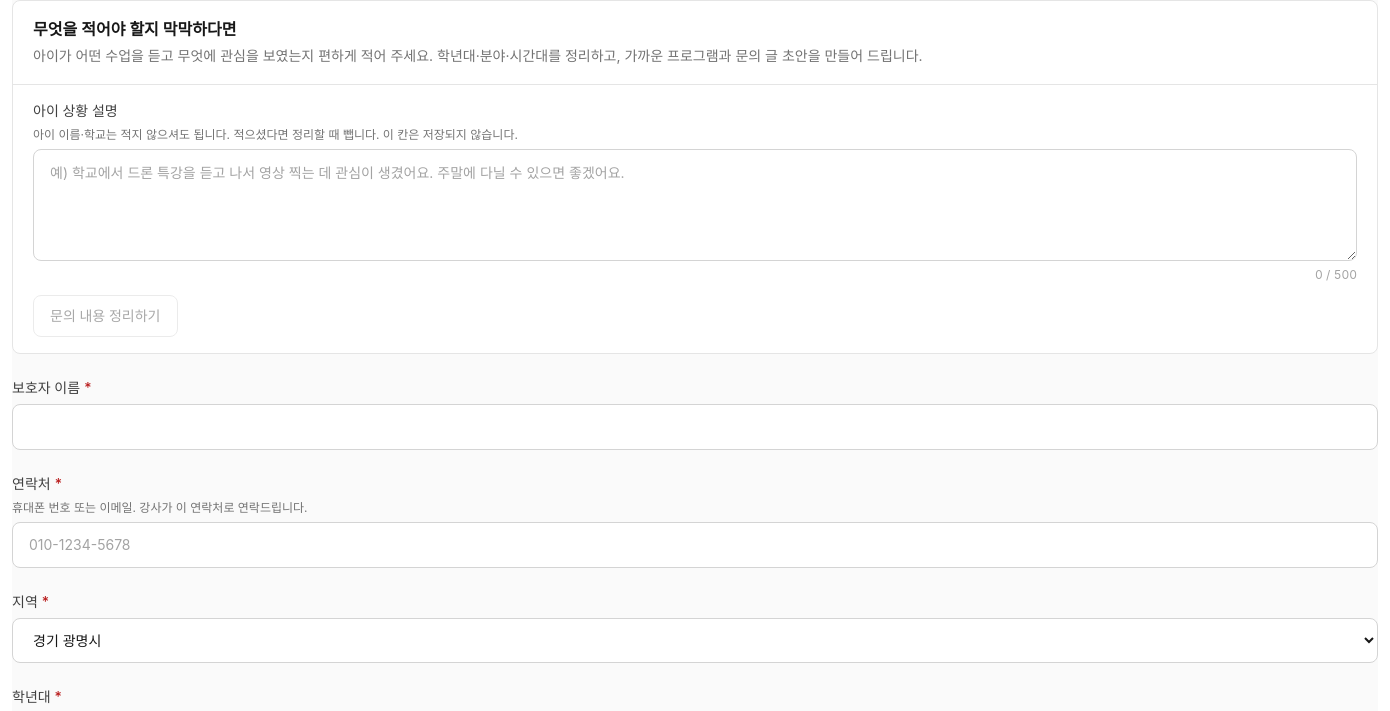
Test case: 보호자 문의 도우미 › 정리한 조건·조건에 맞는 프로그램·초안·고지를 보여 준다
Type "중학생 아들이 드론 특강 듣고 영상 찍는 데 푹 빠졌어요" into the text box labelled "아이 상황 설명" at [695, 205], box [33, 149, 1357, 261]
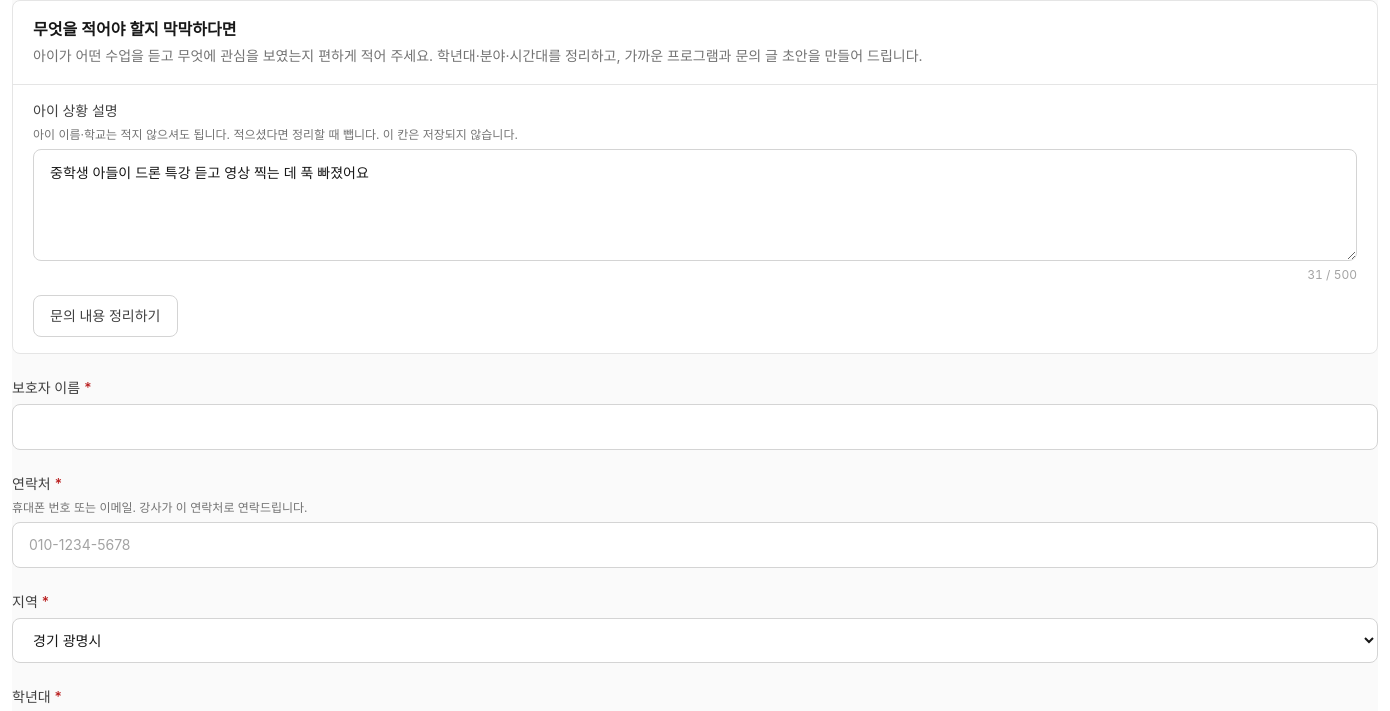
Click the button "문의 내용 정리하기" at [105, 316], box [33, 295, 178, 337]
(page scrolled)
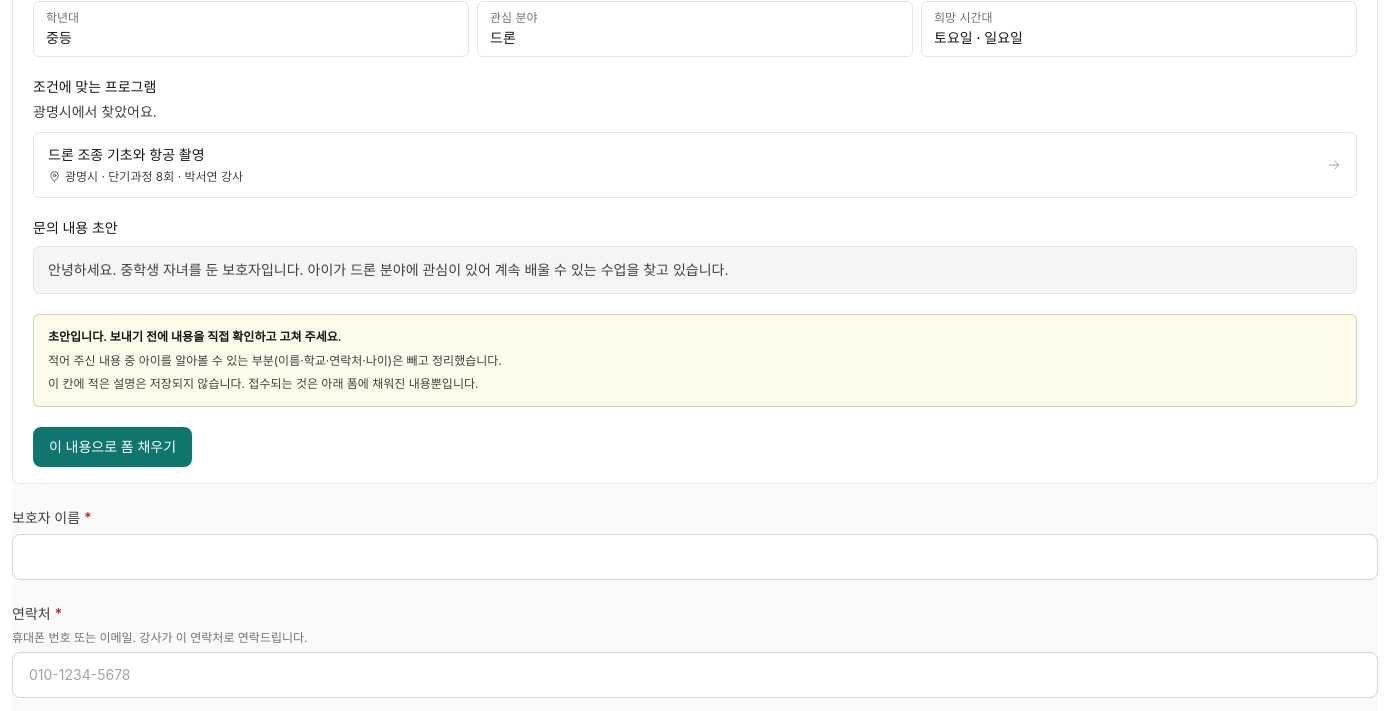
Expected: the text "안녕하세요. 중학생 자녀를 둔 보호자입니다. 아이가 드론 분야에 관심이 있어 계속 배울 수 있는 수업을 찾고 있습니다." is shown, [33, 246, 1357, 294]
Expected: the text "중등" is shown, [46, 29, 72, 46]
Expected: the text "드론" is shown, [490, 29, 516, 46]
